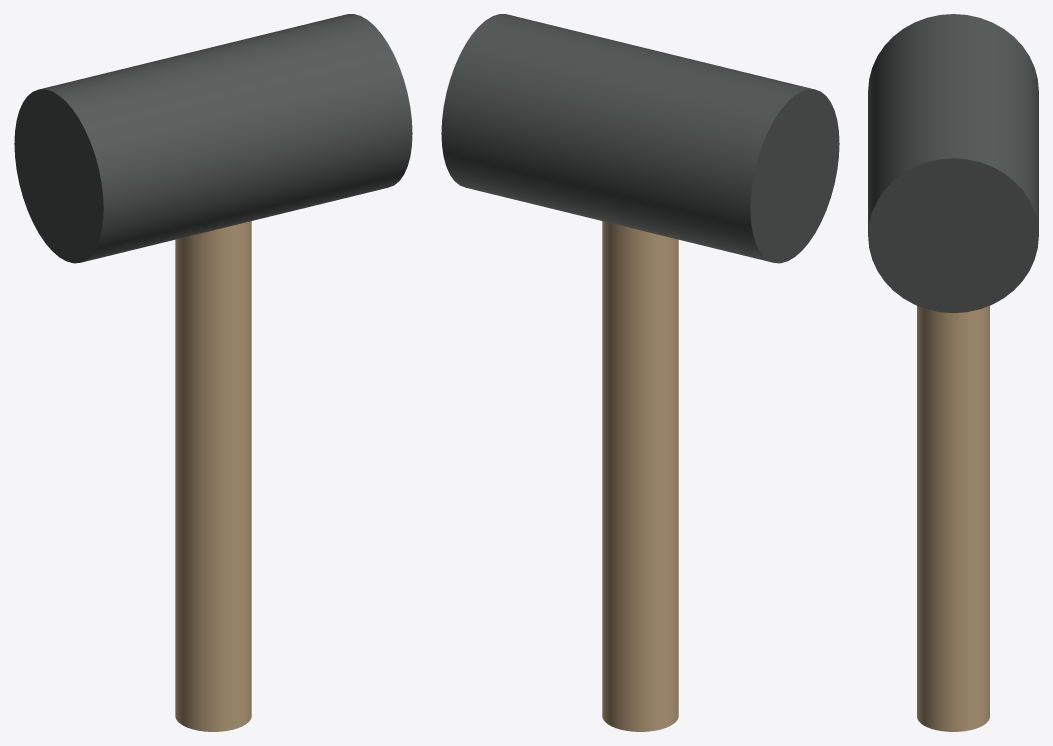
Rendered from bookbinding-and-paper-mill-spine-rounding-hammer-fca75cc3__30579.glb.
The picture shows the model from 3 angles, left to right: view 1: azimuth 30°, elevation 25°; view 2: azimuth 150°, elevation 25°; view 3: azimuth 270°, elevation 25°; orthographic projection. The views are drawn at different scales.
Visible parts, largest first — view 1: spine-rounding-hammer; view 2: spine-rounding-hammer; view 3: spine-rounding-hammer.
Part boxes in pixels (x1=…): spine-rounding-hammer: x1=14, y1=14, x2=412, y2=731; spine-rounding-hammer: x1=441, y1=14, x2=839, y2=731; spine-rounding-hammer: x1=868, y1=14, x2=1038, y2=731.
Bounding box in the file's own units: 0.14 × 0.285 × 0.07.
